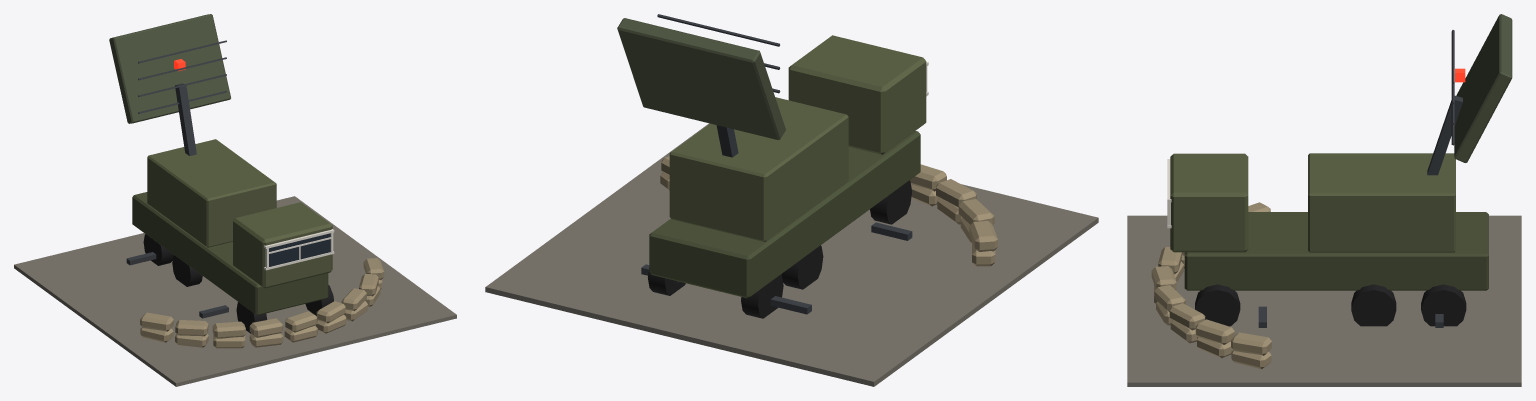
File: cbradar.glb
The picture shows the model from 3 angles, left to right: view 1: azimuth 30°, elevation 25°; view 2: azimuth 150°, elevation 25°; view 3: azimuth 270°, elevation 25°; orthographic projection. The views are drawn at different scales.
Parts seen in each view (by area): view 1: cbradar; view 2: cbradar; view 3: cbradar.
Boxes of the visible parts, left/top/right/bottom form: cbradar: left=14, top=14, right=456, bottom=386; cbradar: left=485, top=14, right=1098, bottom=386; cbradar: left=1127, top=14, right=1521, bottom=386.
Bounding box in the file's own units: 9.6 × 7 × 9.6.
